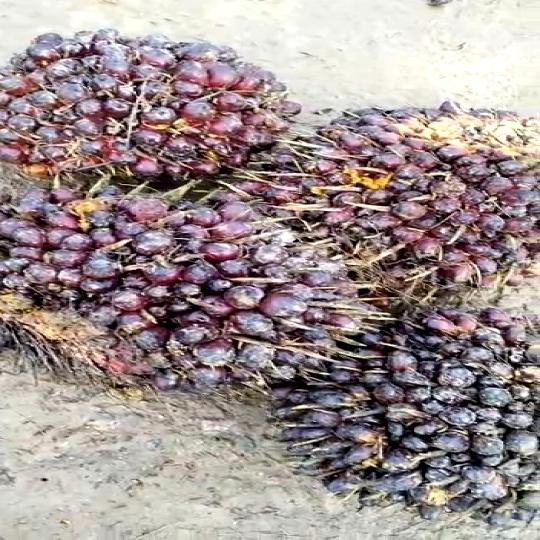kurang masak: (0, 174, 362, 393), (272, 87, 540, 306), (280, 299, 540, 523), (1, 26, 289, 183)
